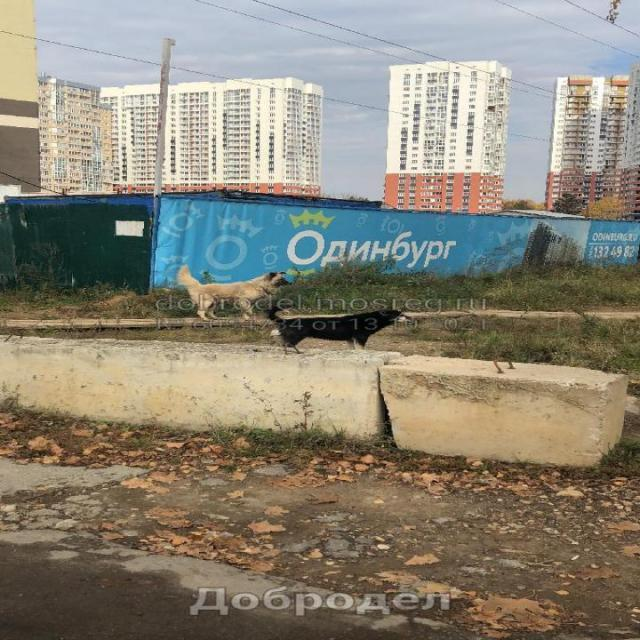dog: (263, 301, 413, 362), (175, 260, 294, 326)
